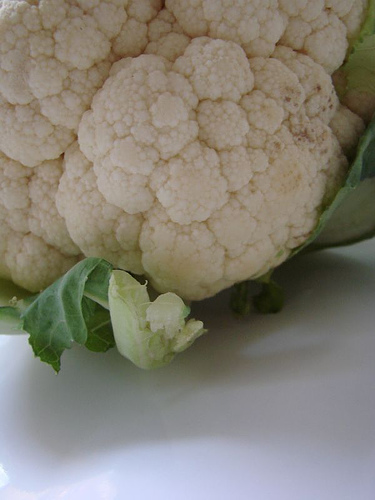cauliflower: (0, 0, 373, 368)
